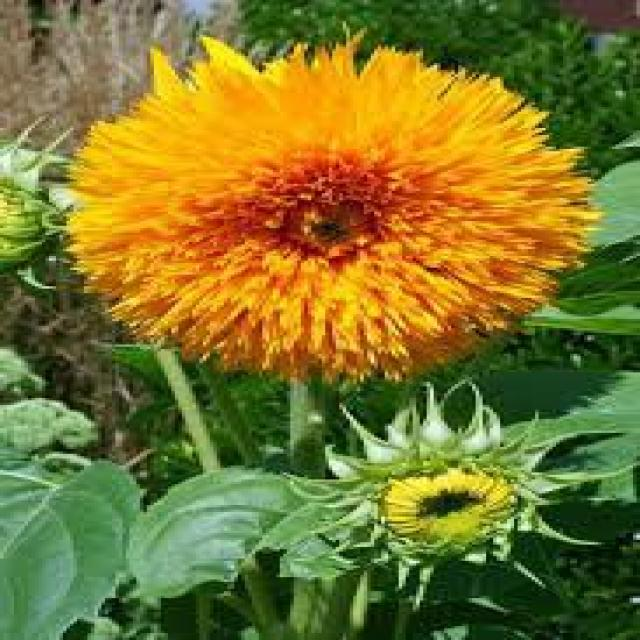sunflower: (270, 382, 608, 594)
